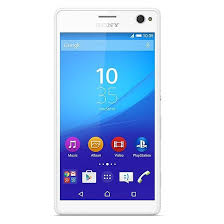sony: (52, 6, 162, 216)
